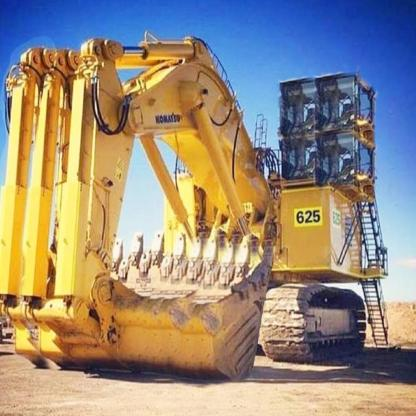excavator: (7, 24, 401, 380)
